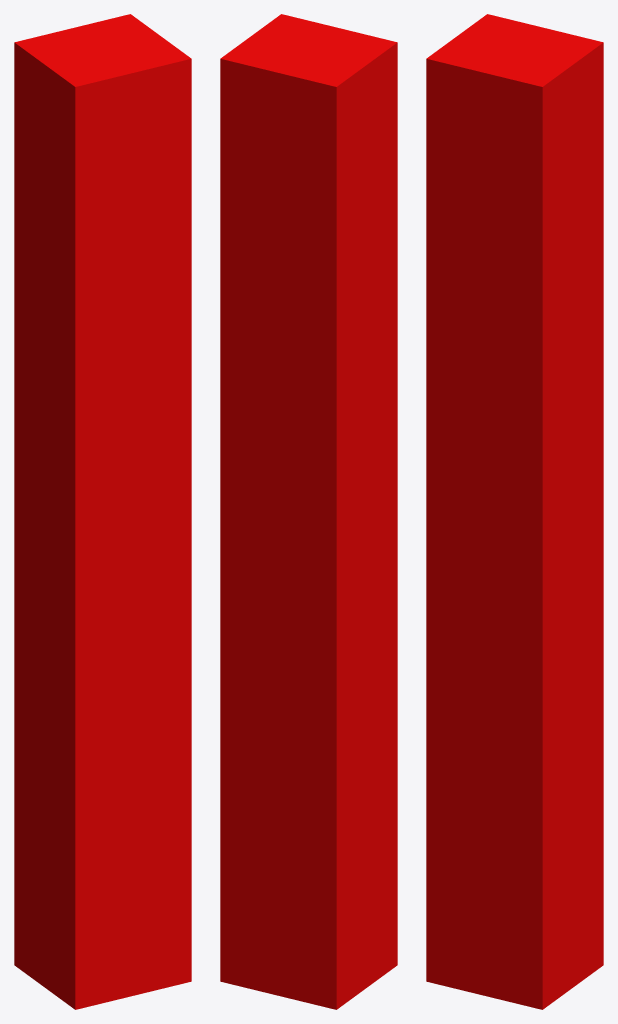
Rendered from original-89.obj.
3 renders of one model, left to right at view 1: azimuth 30°, elevation 25°; view 2: azimuth 150°, elevation 25°; view 3: azimuth 330°, elevation 25°, orthographic.
Visible parts, largest first — view 1: mesh199/mesh199-geometry#mesh199-geometry; view 2: mesh199/mesh199-geometry#mesh199-geometry; view 3: mesh199/mesh199-geometry#mesh199-geometry.
Part boxes in pixels (left/top/right/bottom): mesh199/mesh199-geometry#mesh199-geometry: left=14, top=14, right=191, bottom=1009; mesh199/mesh199-geometry#mesh199-geometry: left=220, top=14, right=397, bottom=1009; mesh199/mesh199-geometry#mesh199-geometry: left=426, top=14, right=603, bottom=1009.
Size of the model in its own units: 0.00248 by 0.0188 by 0.00226.
